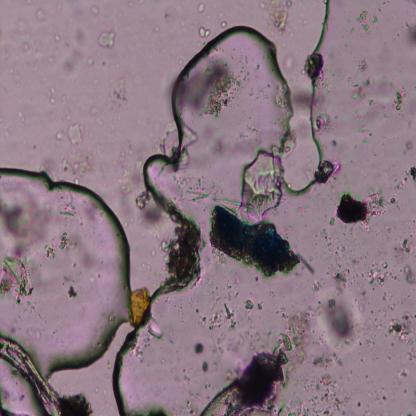Air bubble: (137, 0, 353, 274), (0, 158, 137, 414), (46, 311, 143, 414)
Background material: (240, 333, 298, 412), (308, 284, 362, 350), (239, 150, 287, 224), (176, 61, 238, 118), (0, 194, 52, 256), (163, 218, 204, 289), (275, 306, 314, 372), (335, 187, 387, 229), (0, 251, 36, 306), (305, 366, 345, 412), (59, 27, 89, 77), (356, 80, 380, 139), (57, 147, 94, 185), (127, 285, 154, 331), (264, 1, 294, 39), (135, 191, 167, 225), (348, 58, 370, 104), (387, 310, 416, 342), (45, 230, 75, 260), (181, 366, 199, 415), (329, 254, 352, 291), (206, 302, 236, 329), (283, 85, 318, 108), (1, 41, 22, 78), (120, 164, 143, 194), (60, 392, 90, 415), (368, 260, 393, 287), (312, 162, 340, 186), (181, 180, 209, 204), (355, 10, 378, 38), (109, 76, 130, 106), (306, 51, 326, 82), (321, 222, 339, 253), (314, 109, 333, 136), (40, 77, 57, 105), (66, 121, 84, 145), (163, 4, 185, 23), (97, 30, 116, 51), (87, 105, 105, 126), (402, 263, 416, 289), (401, 23, 416, 47), (395, 233, 410, 256), (393, 88, 405, 114), (14, 21, 30, 39), (86, 2, 106, 16), (282, 51, 294, 72), (32, 6, 48, 20), (144, 406, 168, 414), (406, 162, 416, 181), (66, 284, 79, 298), (50, 128, 65, 140), (397, 364, 409, 378), (194, 343, 206, 355), (200, 360, 210, 374), (200, 25, 211, 37), (245, 298, 255, 311), (325, 137, 338, 146), (198, 3, 205, 16), (17, 113, 24, 121), (380, 392, 387, 400), (357, 399, 364, 407), (54, 36, 60, 43)
Cellulose filter fibre: (0, 336, 62, 416), (199, 379, 253, 415)
Fragment: (210, 204, 298, 274)
